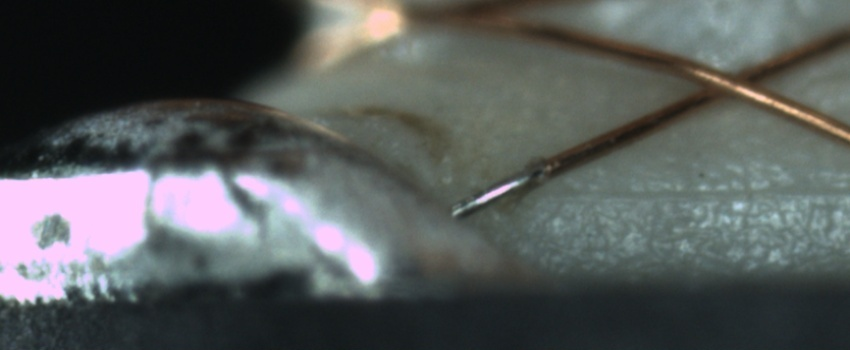CL: (669, 53, 794, 111)
DL: (536, 158, 850, 217)
TS: (451, 166, 541, 216)
